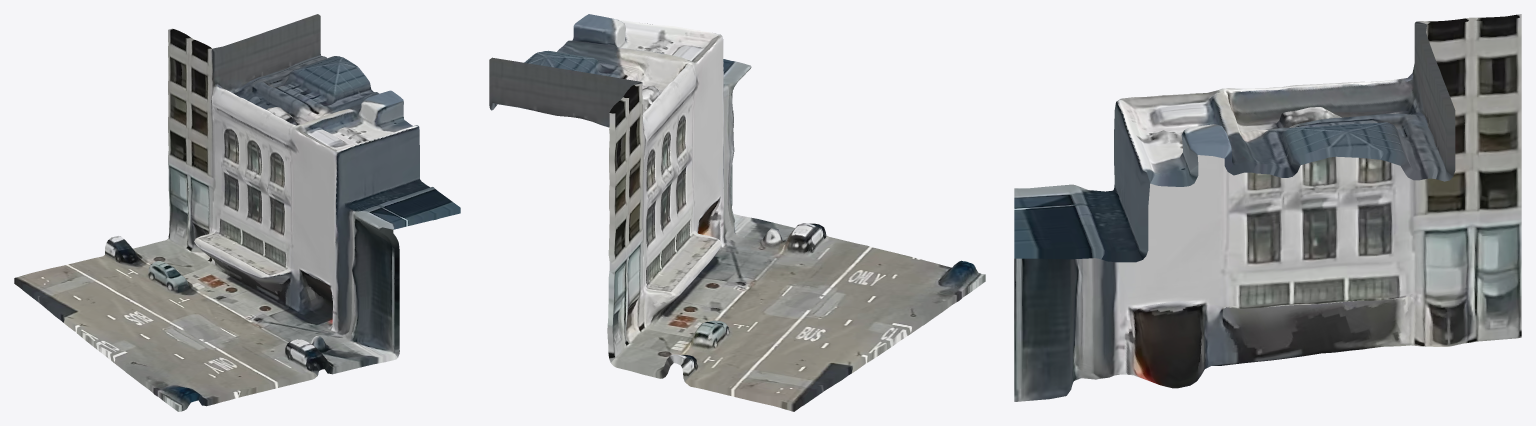
The model's file is z20-167750-405246-h0-yup-uvflip-v3-world.glb.
The picture shows the model from 3 angles, left to right: view 1: azimuth 30°, elevation 25°; view 2: azimuth 150°, elevation 25°; view 3: azimuth 270°, elevation 25°; orthographic projection. The views are drawn at different scales.
Bounding box in the file's own units: 30.16 × 23.08 × 30.32.
1 material, 1 textured.
